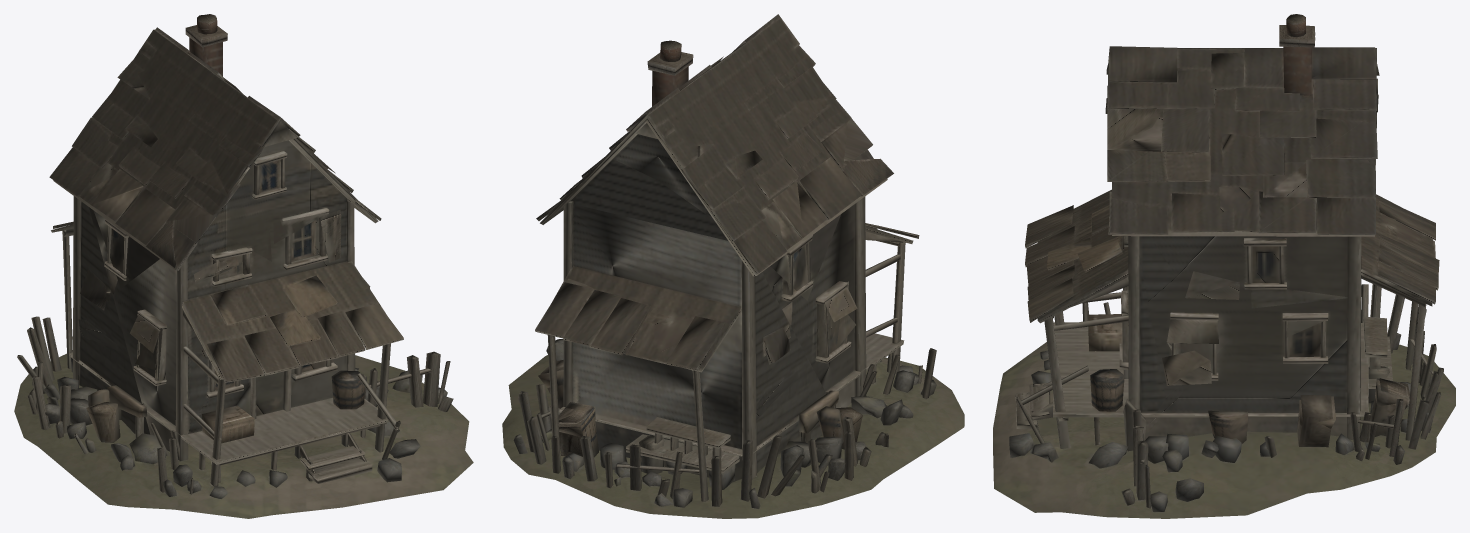
The model's file is Meshy_AI_pickman_house_1_textu_0921204733_texture.glb.
3 renders of one model, left to right at view 1: azimuth 30°, elevation 25°; view 2: azimuth 150°, elevation 25°; view 3: azimuth 270°, elevation 25°, orthographic. The views are drawn at different scales.
Size of the model in its own units: 1.95 by 2 by 2.
1 material, 1 textured.
